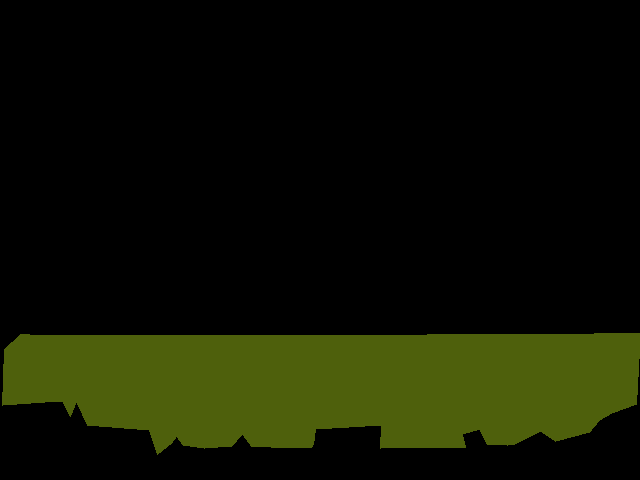Train: (2, 332, 640, 454)
